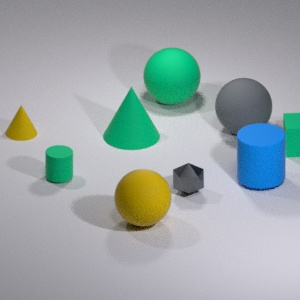lapphuong: (283, 109, 300, 159)
non: (100, 89, 165, 155), (3, 101, 39, 146)
tron: (207, 72, 275, 140), (111, 167, 173, 235), (141, 44, 204, 106)
tru: (234, 118, 287, 195), (44, 145, 77, 189)
